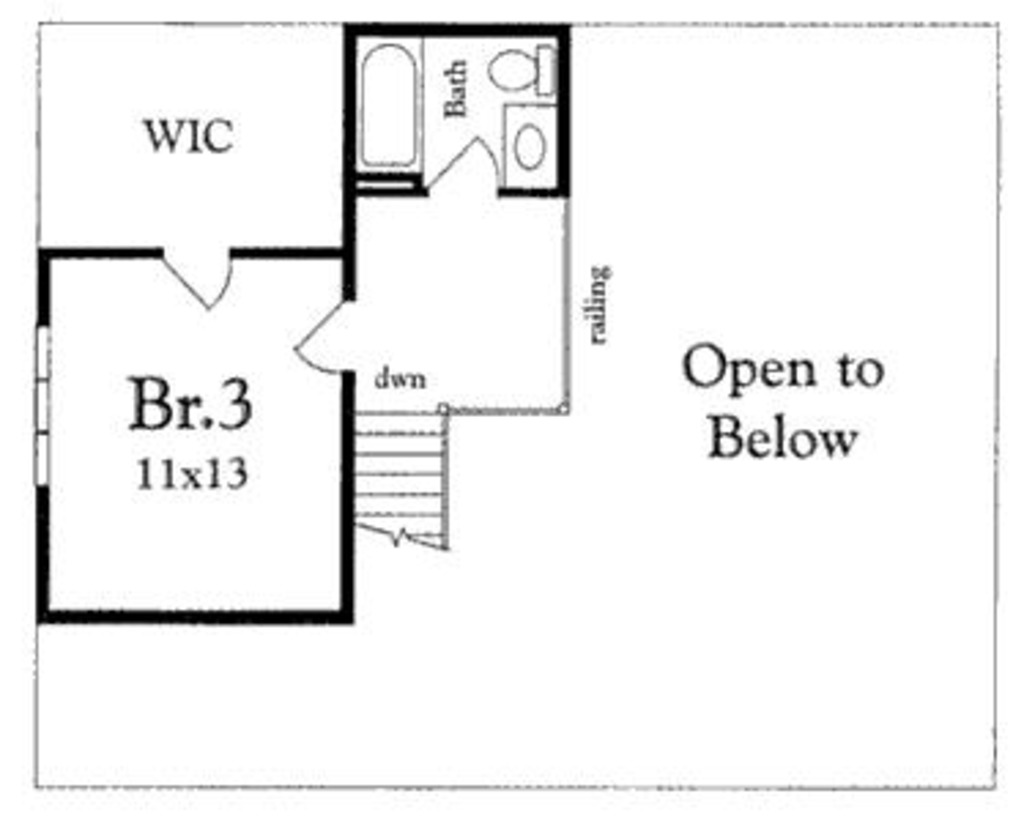door: (159, 242, 235, 312), (293, 290, 350, 376)
large_sink: (483, 42, 561, 100)
small_sink: (500, 100, 560, 193)
stairs: (343, 398, 452, 561)
tub: (356, 36, 426, 171)
windows: (31, 320, 58, 491)
